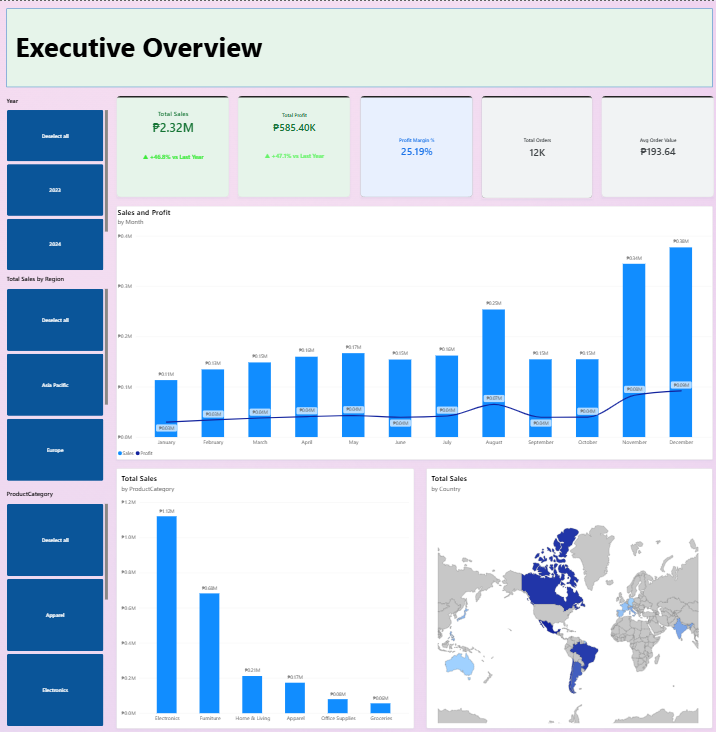

The dashboard page shown, as its layout file describes it:
{"tool":"powerbi","page":{"name":"Executive Overview","canvas":[1920,1950],"ordinal":0},"visuals":[{"type":"cardVisual","fields":{"Data":["Sales_Data.Total Sales"]},"box":[313.3,253.3,300,270],"z":0},{"type":"cardVisual","fields":{"Data":["Sales_Data.Total Profit"]},"box":[636.7,253.3,300,270],"z":1000},{"type":"cardVisual","fields":{"Data":["Sales_Data.Profit Margin %"]},"box":[963.3,253.3,300,270],"z":2000},{"type":"cardVisual","fields":{"Data":["Sales_Data.Total Orders"]},"box":[1286.7,253.3,296.7,273.3],"z":3000},{"type":"cardVisual","fields":{"Data":["Sales_Data.Avg Order Value"]},"box":[1606.7,253.3,300,270],"z":4000},{"type":"lineClusteredColumnComboChart","fields":{"Category":["DateTable.Date.Variation.Date Hierarchy.Month"],"Y":["Sales_Data.Total Sales"],"Y2":["Sales_Data.Total Profit"]},"box":[313.3,546.7,1590,676.7],"z":5000},{"type":"columnChart","fields":{"Category":["Sales_Data.ProductCategory"],"Y":["Sales_Data.Total Sales"]},"box":[313.3,1246.7,793.3,693.3],"z":6000},{"type":"shapeMap","fields":{"Category":["Sales_Data.Country"],"Value":["Sales_Data.Total Sales"]},"box":[1140,1246.7,762.5,692.5],"z":7000},{"type":"shape","box":[20,20,1883.3,210],"z":8000},{"type":"textbox","box":[20,20,1883.3,210],"z":9000},{"type":"advancedSlicerVisual","fields":{"Values":["DateTable.Date.Variation.Date Hierarchy.Year"]},"box":[20,253.3,270,466.7],"z":10000},{"type":"advancedSlicerVisual","fields":{"Values":["Sales_Data.Region"]},"box":[20,730,270,550],"z":11000},{"type":"advancedSlicerVisual","fields":{"Values":["Sales_Data.ProductCategory"]},"box":[20,1303.3,270,630],"z":12000},{"type":"textbox","box":[43.3,20,1860,210],"z":13000}]}

Visuals, with their boxes in screenshot pixels (x1, y1, x2, y2), scaled from the page's 1920x1950 canvas onto the 716x732 screenshot:
cardVisual - Sales_Data.Total Sales: (117, 95, 229, 196)
cardVisual - Sales_Data.Total Profit: (237, 95, 349, 196)
cardVisual - Sales_Data.Profit Margin %: (359, 95, 471, 196)
cardVisual - Sales_Data.Total Orders: (480, 95, 590, 198)
cardVisual - Sales_Data.Avg Order Value: (599, 95, 711, 196)
lineClusteredColumnComboChart - DateTable.Date.Variation.Date Hierarchy.Month x Sales_Data.Total Sales: (117, 205, 710, 459)
columnChart - Sales_Data.ProductCategory x Sales_Data.Total Sales: (117, 468, 413, 728)
shapeMap - Sales_Data.Country x Sales_Data.Total Sales: (425, 468, 709, 728)
shape: (7, 8, 710, 86)
textbox: (7, 8, 710, 86)
advancedSlicerVisual - DateTable.Date.Variation.Date Hierarchy.Year: (7, 95, 108, 270)
advancedSlicerVisual - Sales_Data.Region: (7, 274, 108, 480)
advancedSlicerVisual - Sales_Data.ProductCategory: (7, 489, 108, 726)
textbox: (16, 8, 710, 86)
